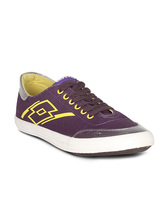shoes: (5, 67, 156, 159)
